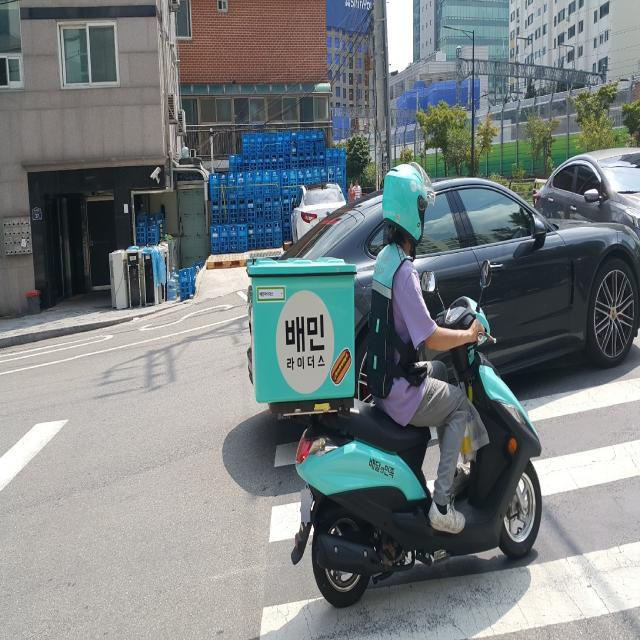횡단보도: (257, 373, 640, 640)
